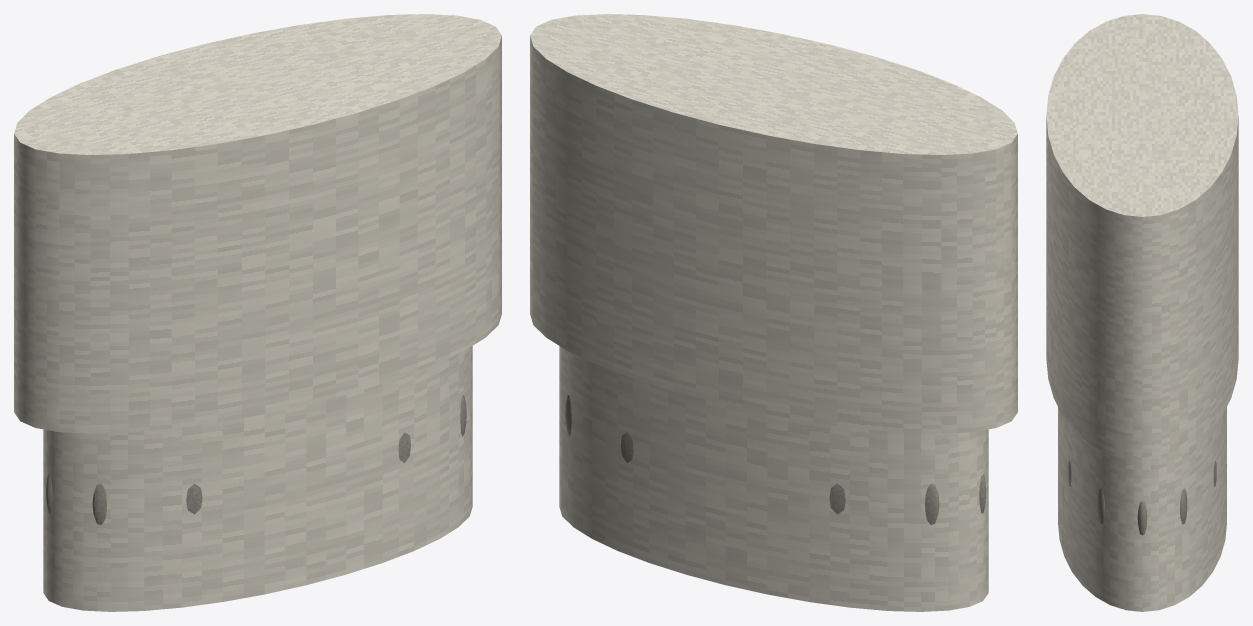
Rendered from detector.glb.
3 renders of one model, left to right at view 1: azimuth 30°, elevation 25°; view 2: azimuth 150°, elevation 25°; view 3: azimuth 270°, elevation 25°, orthographic. The views are drawn at different scales.
Parts seen in each view (by area): view 1: base, case; view 2: base, case; view 3: base, case, vent.
Boxes of the visible parts, left/top/right/bottom form: base: left=14, top=14, right=501, bottom=433; case: left=43, top=346, right=472, bottom=611; base: left=530, top=14, right=1017, bottom=433; case: left=559, top=346, right=988, bottom=611; base: left=1046, top=14, right=1238, bottom=460; case: left=1058, top=407, right=1226, bottom=611; vent: left=1137, top=501, right=1147, bottom=535.
Size of the model in its own units: 0.12 by 0.1122 by 0.048.
2 materials, 2 textured.
